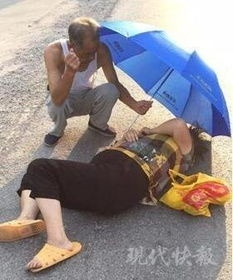falling: (6, 110, 222, 258)
